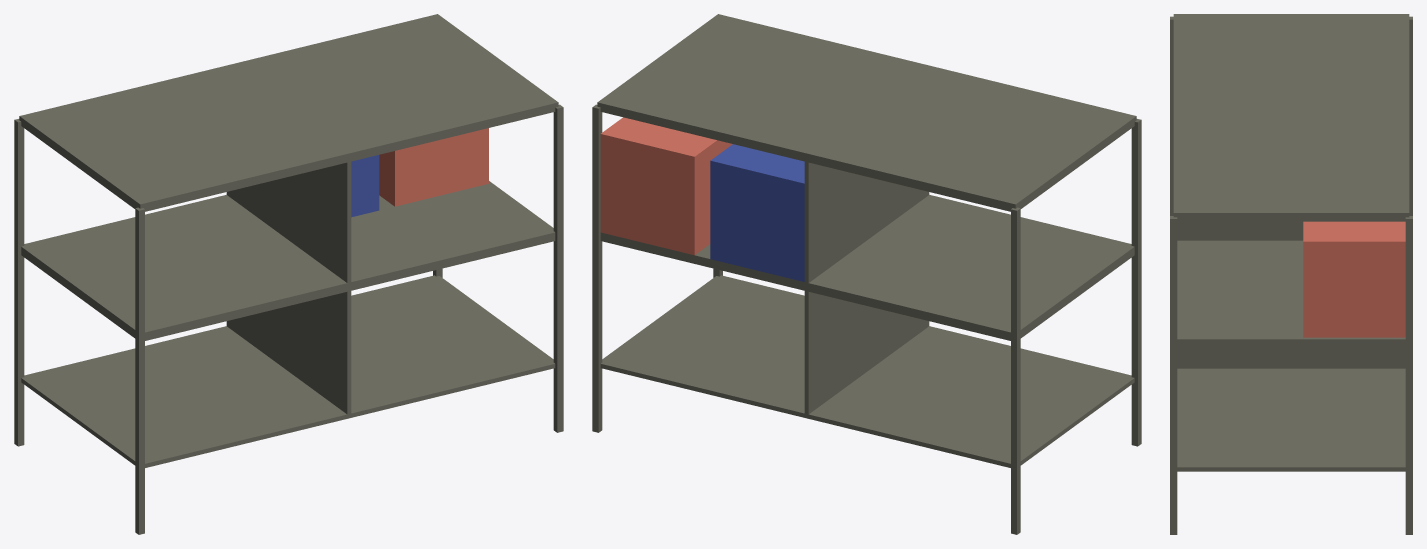
Rendered from rack1.gltf.
3 renders of one model, left to right at view 1: azimuth 30°, elevation 25°; view 2: azimuth 150°, elevation 25°; view 3: azimuth 270°, elevation 25°, orthographic. The views are drawn at different scales.
Visible parts, largest first — view 1: Cube, Cube.001, Cube.002; view 2: Cube, Cube.001, Cube.002; view 3: Cube, Cube.001.
Part boxes in pixels (x1=…): Cube: x1=14, y1=14, x2=563, y2=534; Cube.001: x1=379, y1=128, x2=488, y2=206; Cube.002: x1=351, y1=155, x2=379, y2=217; Cube: x1=592, y1=14, x2=1141, y2=534; Cube.001: x1=600, y1=117, x2=732, y2=255; Cube.002: x1=710, y1=144, x2=804, y2=281; Cube: x1=1170, y1=14, x2=1412, y2=534; Cube.001: x1=1303, y1=221, x2=1405, y2=337.
Size of the model in its own units: 2.03 by 1.5 by 1.03.
